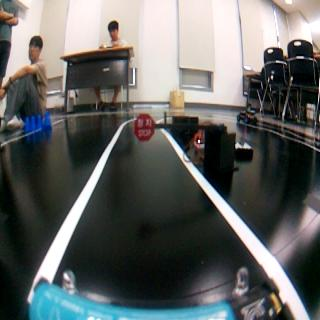stop: (134, 114, 156, 140)
